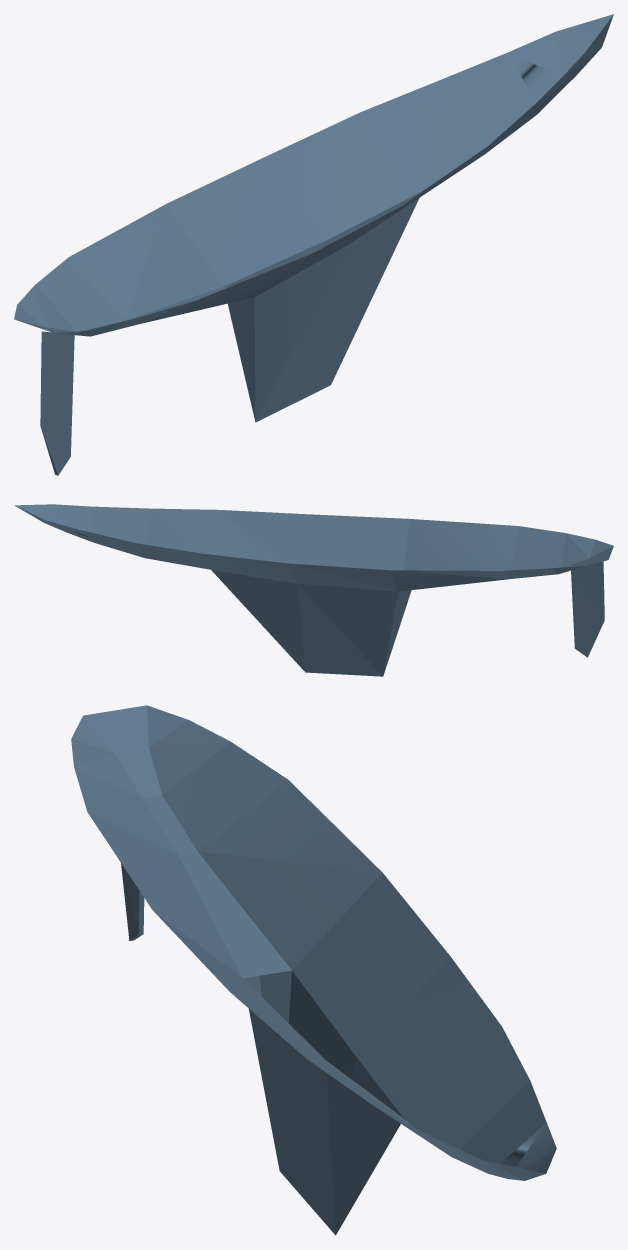
3 renders of one model, top to bottom at view 1: azimuth 30°, elevation 25°; view 2: azimuth 150°, elevation 25°; view 3: azimuth 270°, elevation 25°, orthographic. The views are drawn at different scales.
Parts seen in each view (by area): view 1: MATTE; view 2: MATTE; view 3: MATTE.
Part boxes in pixels (<box>): MATTE: <box>14,14,613,475</box>; MATTE: <box>14,504,613,676</box>; MATTE: <box>71,705,556,1235</box>.
Size of the model in its own units: 192 by 54.61 by 81.51.
